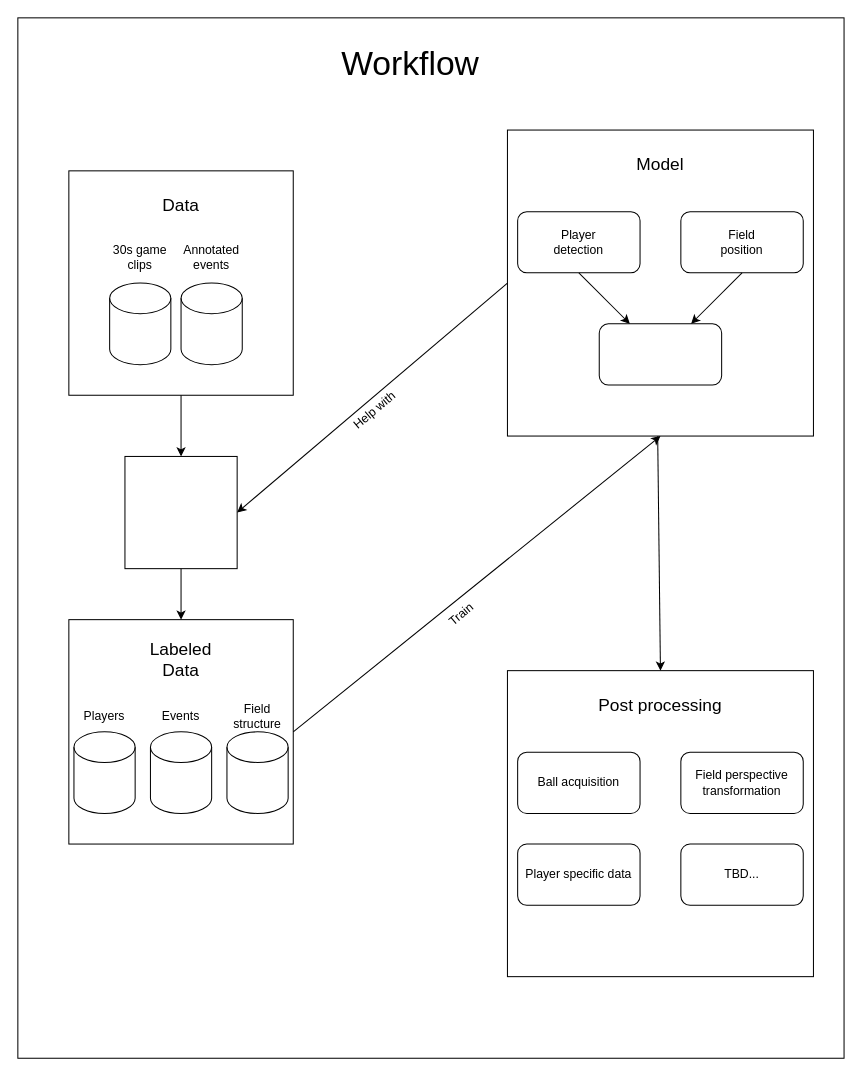
This 862x1076 diagram has some shape labels left out. Each missing label, with the box of its shape:
Auto-labeling with Label Studio: (124, 455, 237, 569)
Play recognition: (598, 323, 722, 385)
